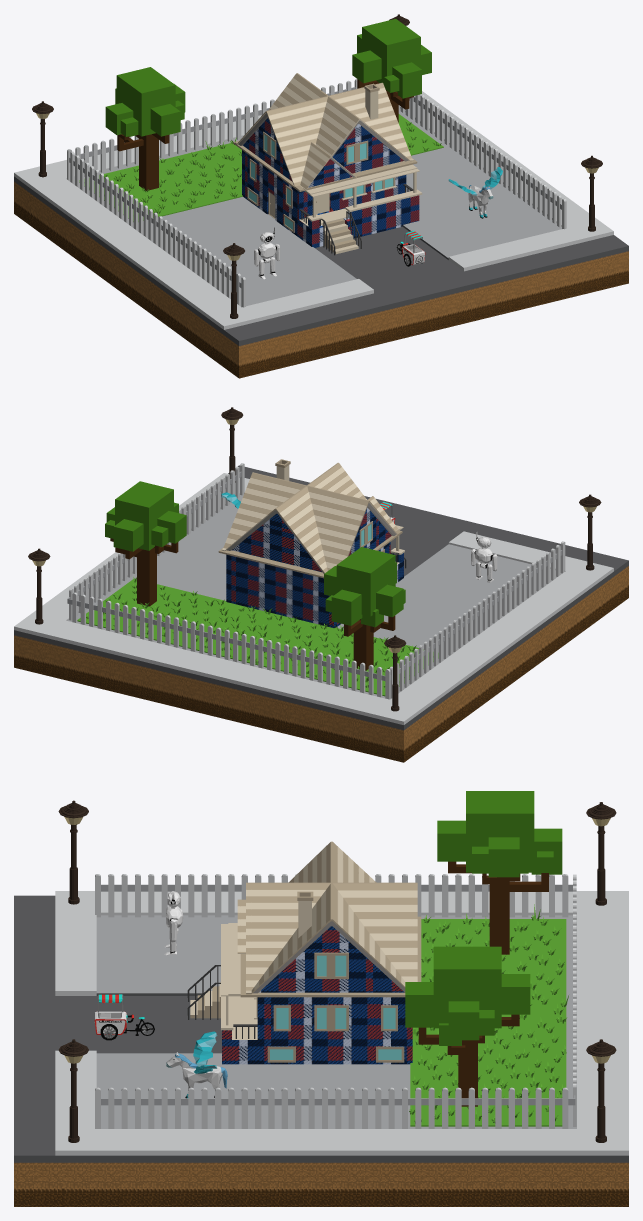
The picture shows the model from 3 angles, top to bottom: view 1: azimuth 30°, elevation 25°; view 2: azimuth 150°, elevation 25°; view 3: azimuth 270°, elevation 25°; orthographic projection. The views are drawn at different scales.
Parts seen in each view (by area): view 1: Cube.004, Cube.171, ANIMAL_PEGASO, OBJRANDOM_PLATZEEBOT, VEHICLES_SNOWBAL_BIKE; view 2: Cube.004, Cube.171, OBJRANDOM_PLATZEEBOT; view 3: Cube.004, Cube.171, ANIMAL_PEGASO, VEHICLES_SNOWBAL_BIKE, OBJRANDOM_PLATZEEBOT.
Part boxes in pixels (left/top/right/bottom): Cube.004: left=14, top=14, right=628, bottom=378; Cube.171: left=233, top=73, right=422, bottom=255; ANIMAL_PEGASO: left=448, top=167, right=502, bottom=218; OBJRANDOM_PLATZEEBOT: left=254, top=227, right=280, bottom=279; VEHICLES_SNOWBAL_BIKE: left=396, top=230, right=425, bottom=266; Cube.004: left=14, top=407, right=628, bottom=762; Cube.171: left=218, top=459, right=406, bottom=627; OBJRANDOM_PLATZEEBOT: left=471, top=532, right=497, bottom=582; Cube.004: left=14, top=791, right=628, bottom=1206; Cube.171: left=187, top=841, right=421, bottom=1064; ANIMAL_PEGASO: left=166, top=1031, right=227, bottom=1098; VEHICLES_SNOWBAL_BIKE: left=94, top=994, right=154, bottom=1040; OBJRANDOM_PLATZEEBOT: left=164, top=891, right=183, bottom=955.
Bounding box in the file's own units: 4000 × 1617 × 4000.
33 materials, 4 textured.
